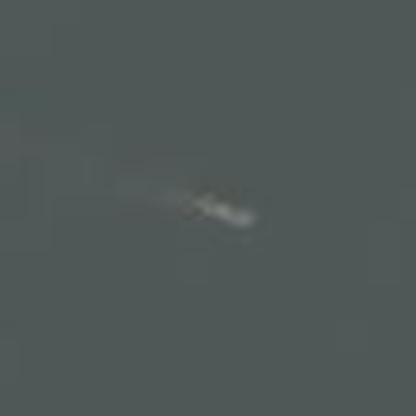ship: (177, 186, 263, 237)
